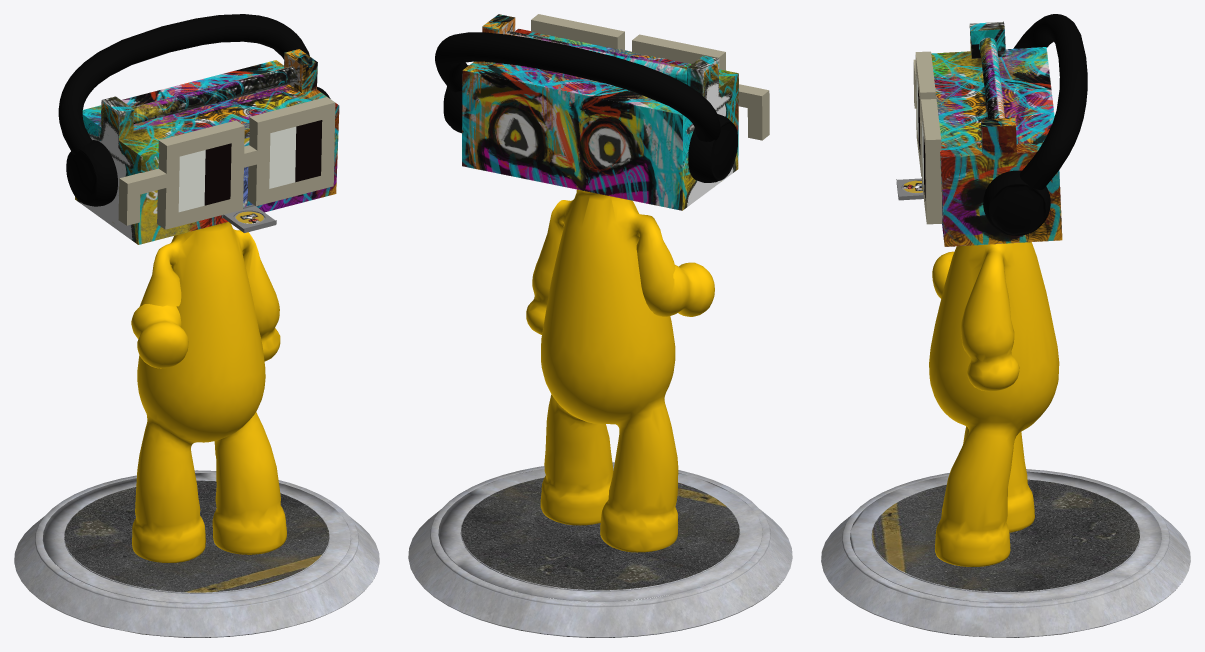
3 renders of one model, left to right at view 1: azimuth 30°, elevation 25°; view 2: azimuth 150°, elevation 25°; view 3: azimuth 270°, elevation 25°, orthographic. The views are drawn at different scales.
Parts seen in each view (by area): view 1: BBody; view 2: BBody; view 3: BBody.
Boxes of the visible parts, x1,y1,x2,y2 form: BBody: [14, 14, 379, 637]; BBody: [408, 14, 792, 637]; BBody: [821, 14, 1190, 637].
Size of the model in its own units: 1.45 by 2.23 by 1.45.
Materials: 10 (5 with a texture image).
